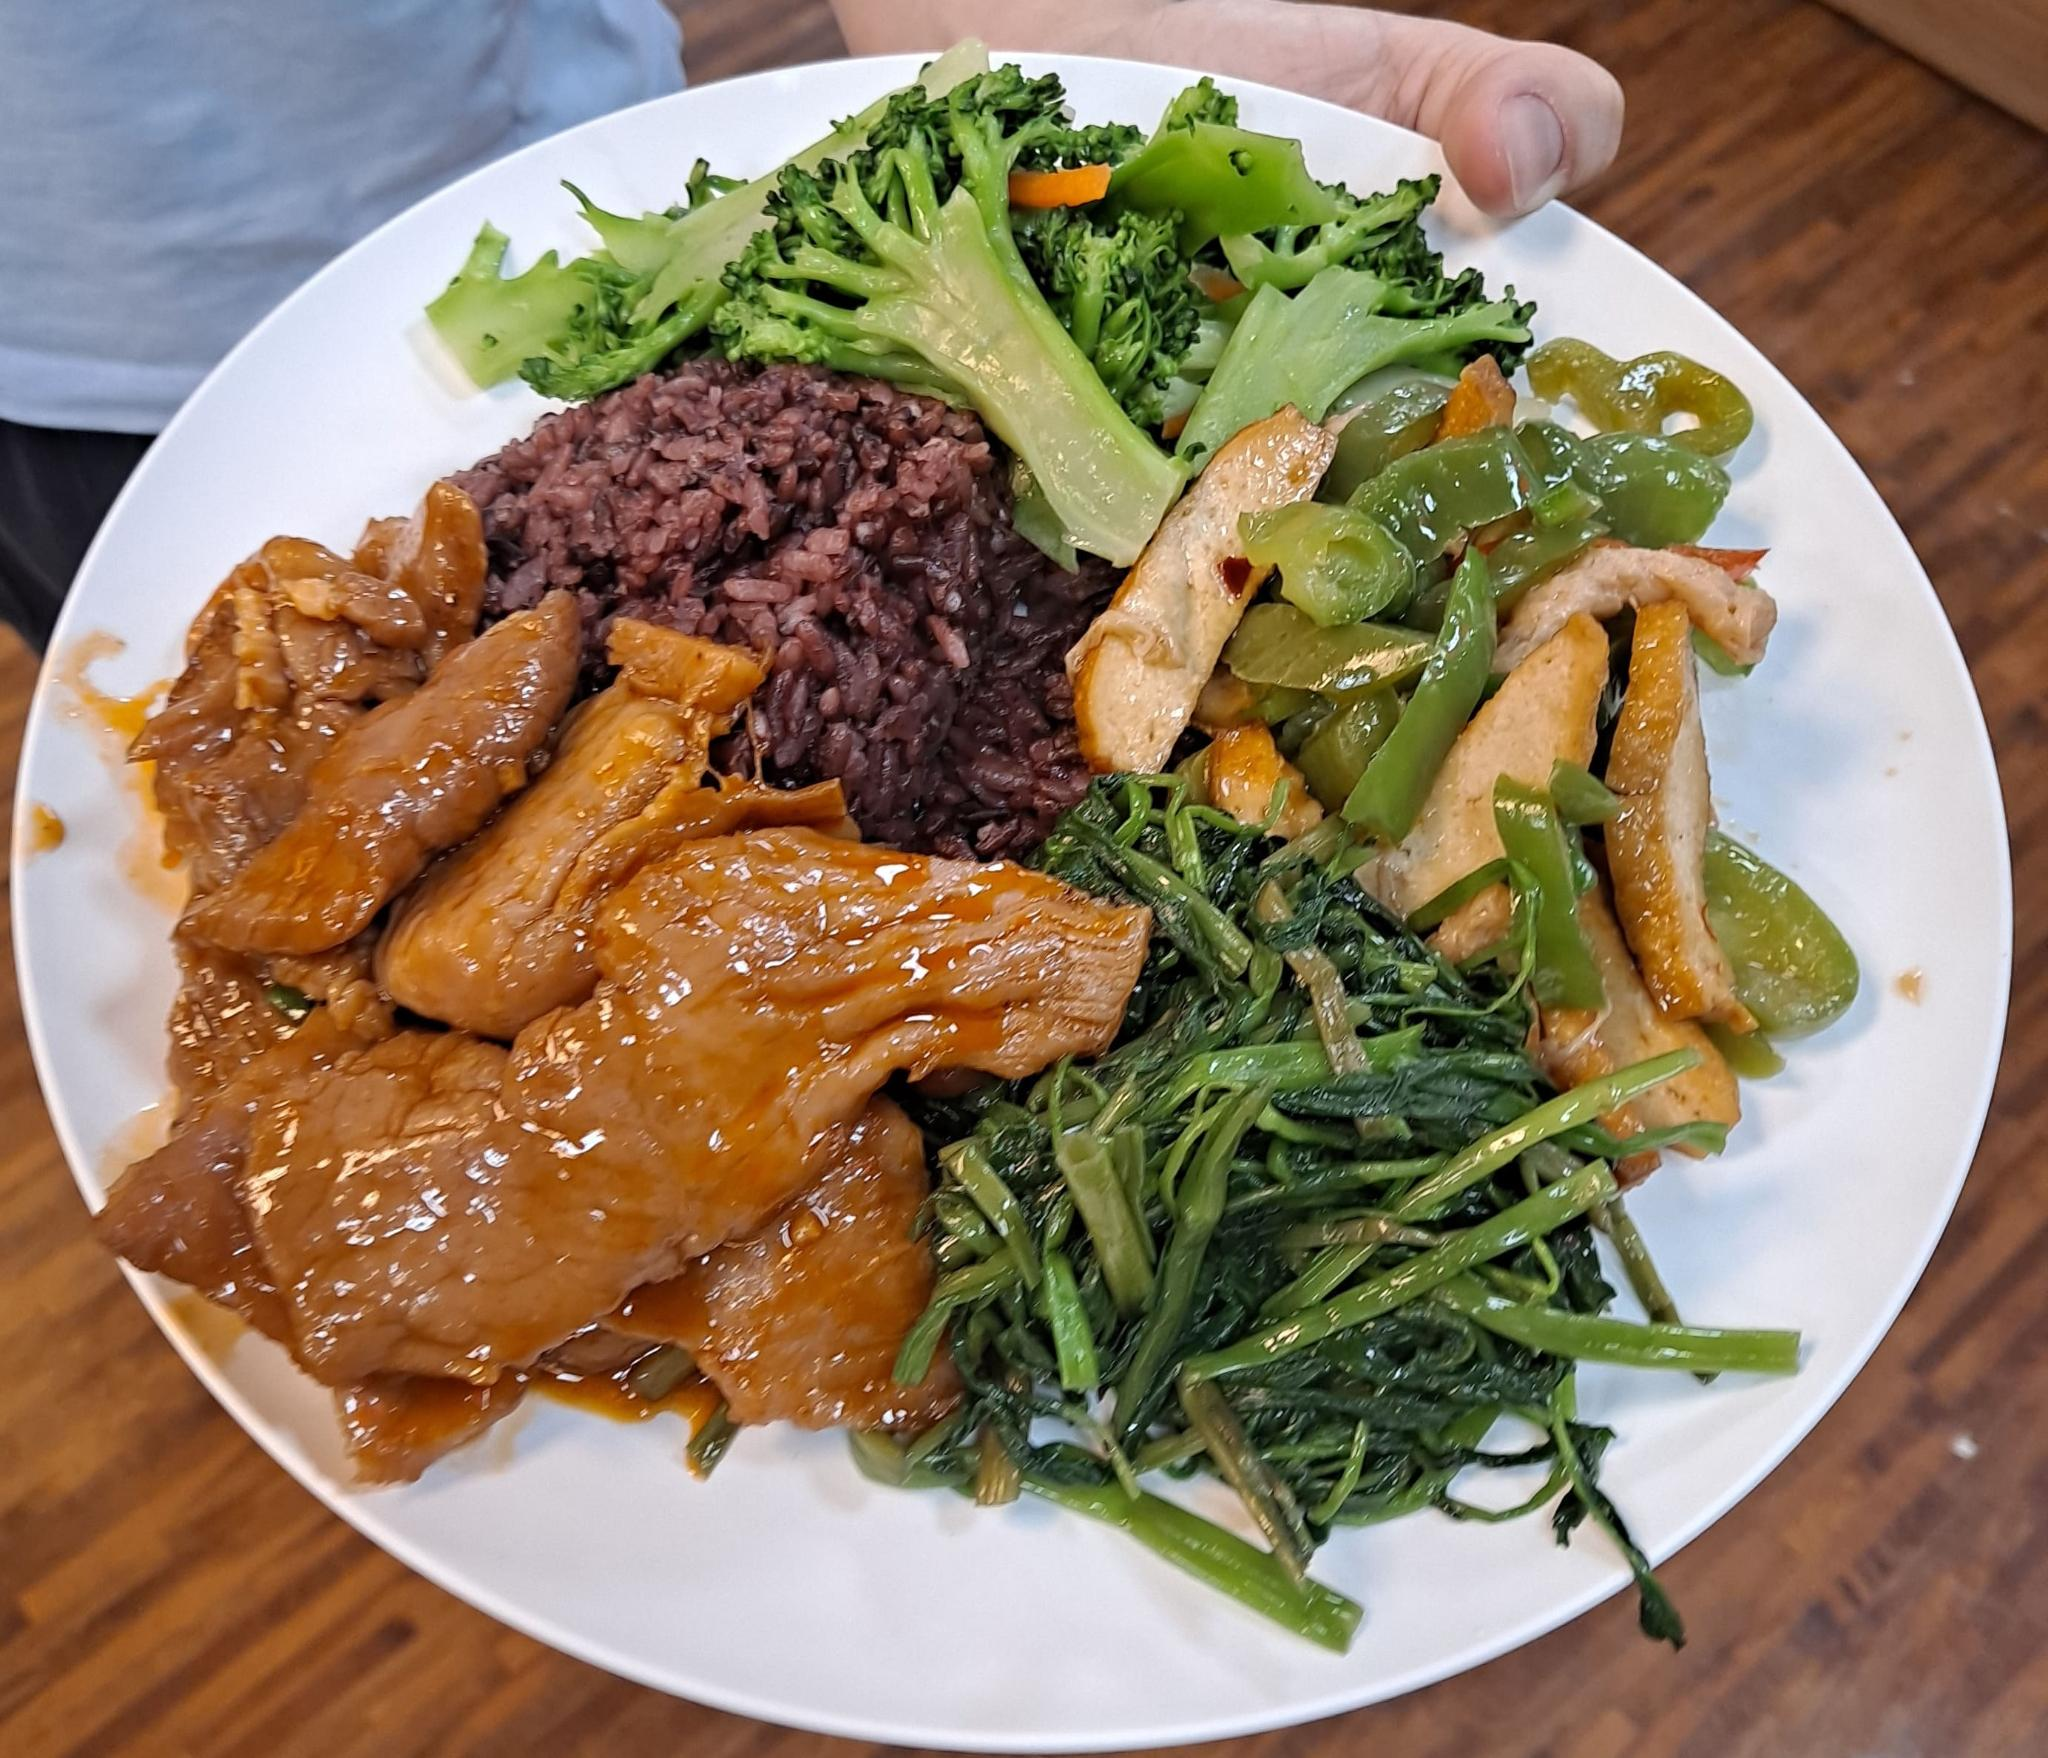big fried chicken leg: (26, 42, 2046, 1758)
braised fish: (434, 368, 1062, 843)
braised fish fillet: (900, 789, 1689, 1646), (1099, 397, 1855, 1143), (453, 56, 1513, 561)
braised pork: (145, 526, 1128, 1490)
